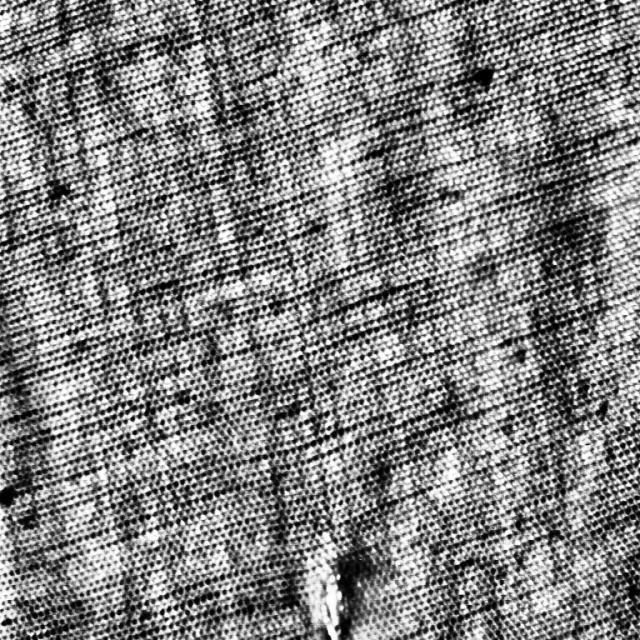cut: (318, 569, 358, 639)
